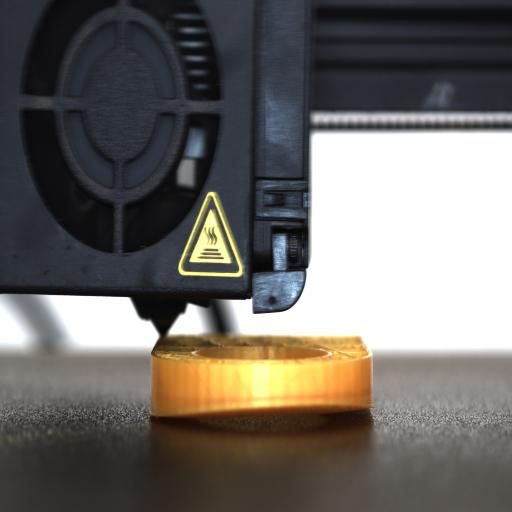warp: (150, 395, 373, 424)
